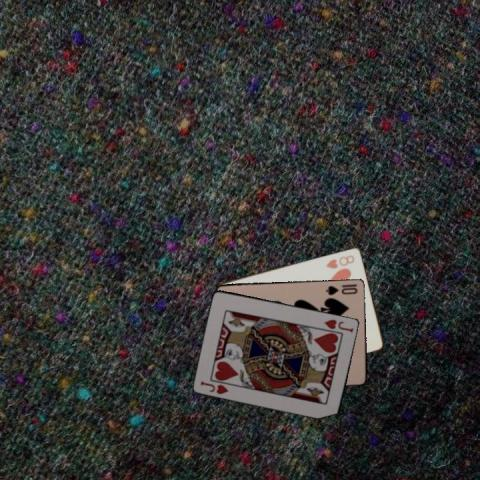10s: (324, 283, 359, 296)
8h: (323, 252, 356, 270)
Jh: (321, 316, 355, 334), (198, 377, 230, 396)
